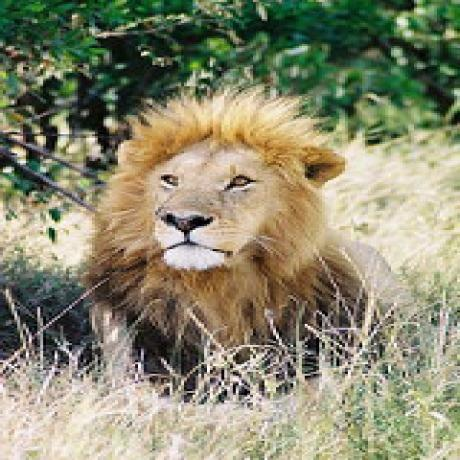Lion: (78, 94, 385, 377)
